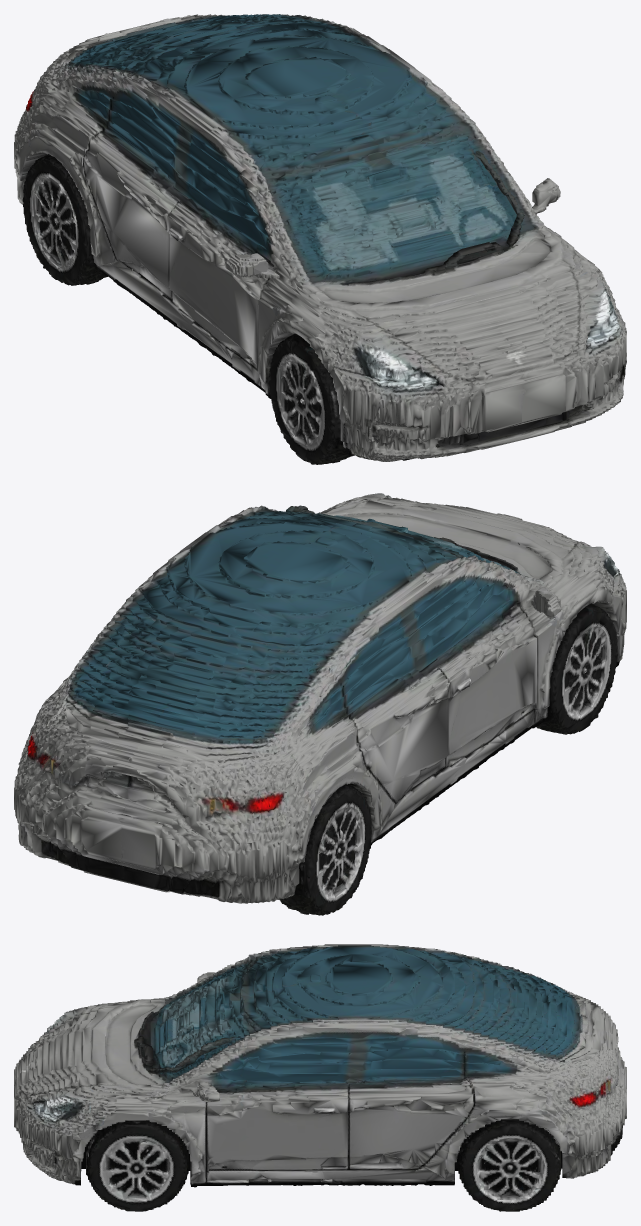
The picture shows the model from 3 angles, top to bottom: view 1: azimuth 30°, elevation 25°; view 2: azimuth 150°, elevation 25°; view 3: azimuth 270°, elevation 25°; orthographic projection. The views are drawn at different scales.
Visible parts, largest first — view 1: geometry_0; view 2: geometry_0; view 3: geometry_0.
Boxes of the visible parts, left/top/right/bottom form: geometry_0: left=14, top=14, right=626, bottom=464; geometry_0: left=14, top=493, right=626, bottom=915; geometry_0: left=14, top=944, right=626, bottom=1211.
Bounding box in the file's own units: 0.4673 × 0.3306 × 1.
1 material, 1 textured.
